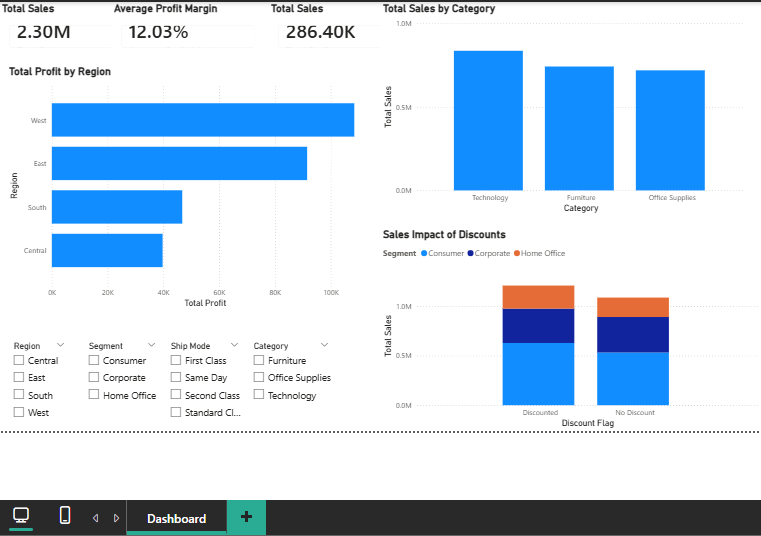

This screenshot's page, from the dashboard's own definition file:
{"tool":"powerbi","page":{"name":"Dashboard","canvas":[1280,720],"ordinal":0},"visuals":[{"type":"cardVisual","title":"Total Sales","fields":{"Data":["Sheet1.Total Sales"]},"box":[0,0,245.2,94.1],"z":0},{"type":"cardVisual","title":"Total Sales","fields":{"Data":["Sheet1.Total Profit"]},"box":[451.9,0,228.5,94.1],"z":1000},{"type":"cardVisual","title":"Average Profit Margin","fields":{"Data":["Sheet1.Average Profit Margin"]},"box":[188.1,0,258.7,94.1],"z":2000},{"type":"clusteredColumnChart","fields":{"Category":["Sheet1.Category"],"Y":["Sheet1.Total Sales"]},"box":[640,0,618.2,359.5],"z":3000},{"type":"barChart","fields":{"Category":["Sheet1.Region"],"Y":["Sheet1.Total Profit"]},"box":[11.8,105.8,611.4,413.2],"z":4000},{"type":"columnChart","title":"Sales Impact of Discounts","fields":{"Category":["Sheet1.Discount Flag"],"Y":["Sheet1.Total Sales"],"Series":["Sheet1.Segment"]},"box":[640,379.6,640,341],"z":5000},{"type":"slicer","fields":{"Values":["Sheet1.Region"]},"box":[11.8,564.4,110.9,149.5],"z":6000},{"type":"slicer","fields":{"Values":["Sheet1.Segment"]},"box":[137.7,564.4,137.7,149.5],"z":7000},{"type":"slicer","fields":{"Values":["Sheet1.Category"]},"box":[414.9,564.4,151.2,149.5],"z":8000},{"type":"slicer","fields":{"Values":["Sheet1.Ship Mode"]},"box":[275.5,564.4,139.4,156.2],"z":9000}]}

Visuals, with their boxes on the page's 1280x720 design canvas (x1, y1, x2, y2). These are canvas units, not pixel positions in the 761x536 screenshot, which may show the page scaled, cropped or inside an application window:
"Total Sales" cardVisual: [x1=0, y1=0, x2=245, y2=94]
"Total Sales" cardVisual: [x1=452, y1=0, x2=680, y2=94]
"Average Profit Margin" cardVisual: [x1=188, y1=0, x2=447, y2=94]
clusteredColumnChart - Sheet1.Category x Sheet1.Total Sales: [x1=640, y1=0, x2=1258, y2=360]
barChart - Sheet1.Region x Sheet1.Total Profit: [x1=12, y1=106, x2=623, y2=519]
"Sales Impact of Discounts" columnChart: [x1=640, y1=380, x2=1280, y2=721]
slicer - Sheet1.Region: [x1=12, y1=564, x2=123, y2=714]
slicer - Sheet1.Segment: [x1=138, y1=564, x2=275, y2=714]
slicer - Sheet1.Category: [x1=415, y1=564, x2=566, y2=714]
slicer - Sheet1.Ship Mode: [x1=276, y1=564, x2=415, y2=721]
